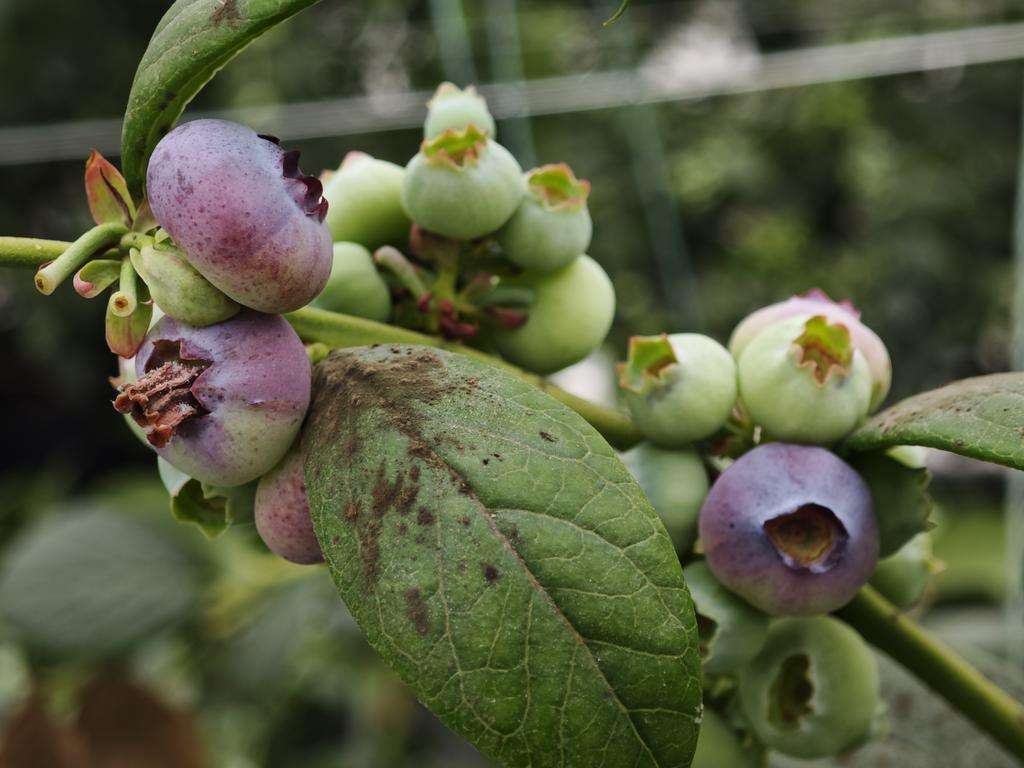RipeBlueBerry: (703, 430, 878, 614)
Semi-RipeBlueBerry: (154, 122, 331, 314), (130, 313, 311, 490)
UnripeBlueBerry: (742, 317, 872, 437), (401, 128, 523, 232)
